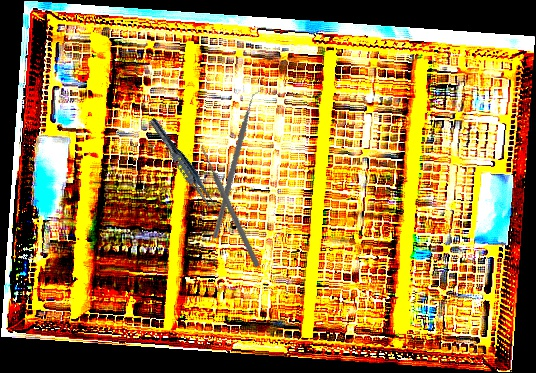Chopper: (176, 88, 303, 239)
Pusher: (197, 144, 262, 268)
Tissue Forceps: (145, 115, 223, 216)
